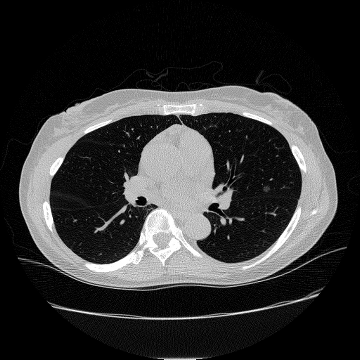nodule: (263, 186, 269, 192)
